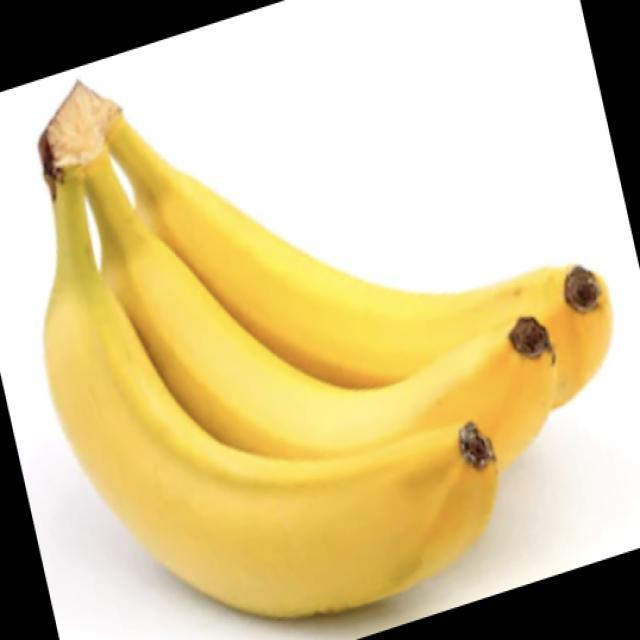Banana: (36, 78, 613, 620)
